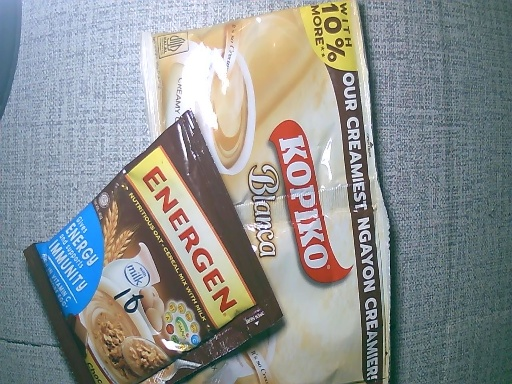plastic: (140, 3, 392, 384), (19, 113, 280, 384)
